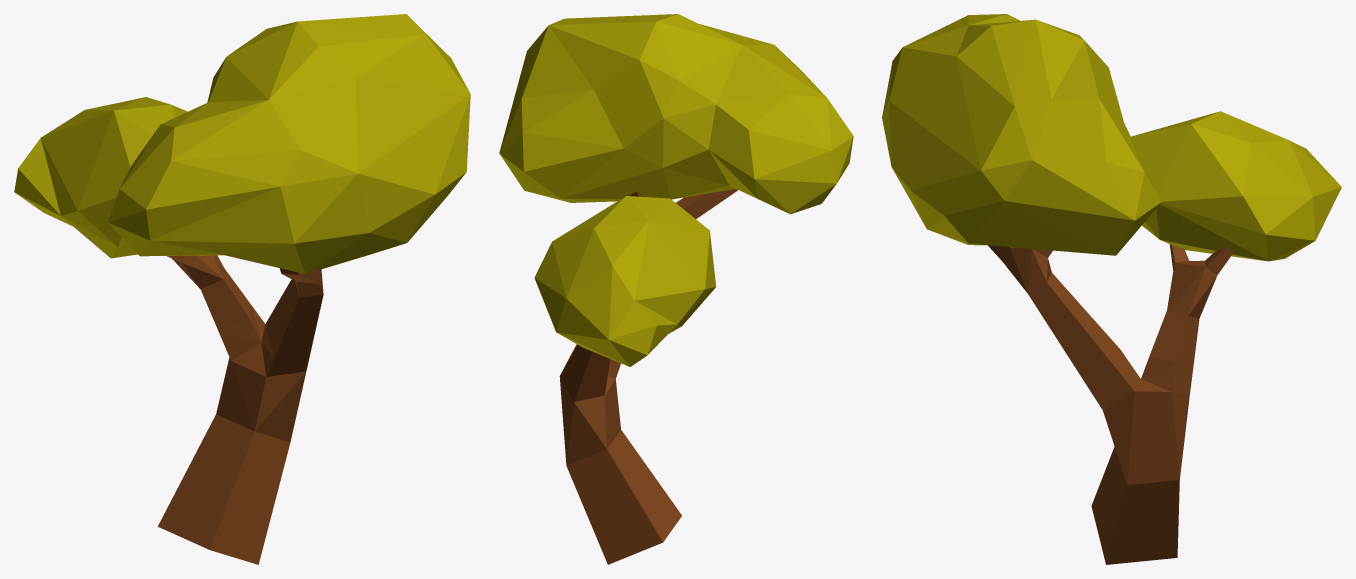
File: Oak2.fbx
3 renders of one model, left to right at view 1: azimuth 30°, elevation 25°; view 2: azimuth 150°, elevation 25°; view 3: azimuth 270°, elevation 25°, orthographic. The views are drawn at different scales.
Visible parts, largest first — view 1: Oak2; view 2: Oak2; view 3: Oak2.
Boxes of the visible parts, box(x1,y1,x2,y2) form: Oak2: box(14, 14, 470, 564); Oak2: box(499, 14, 853, 564); Oak2: box(882, 14, 1341, 564).
Size of the model in its own units: 177 by 273 by 208.
